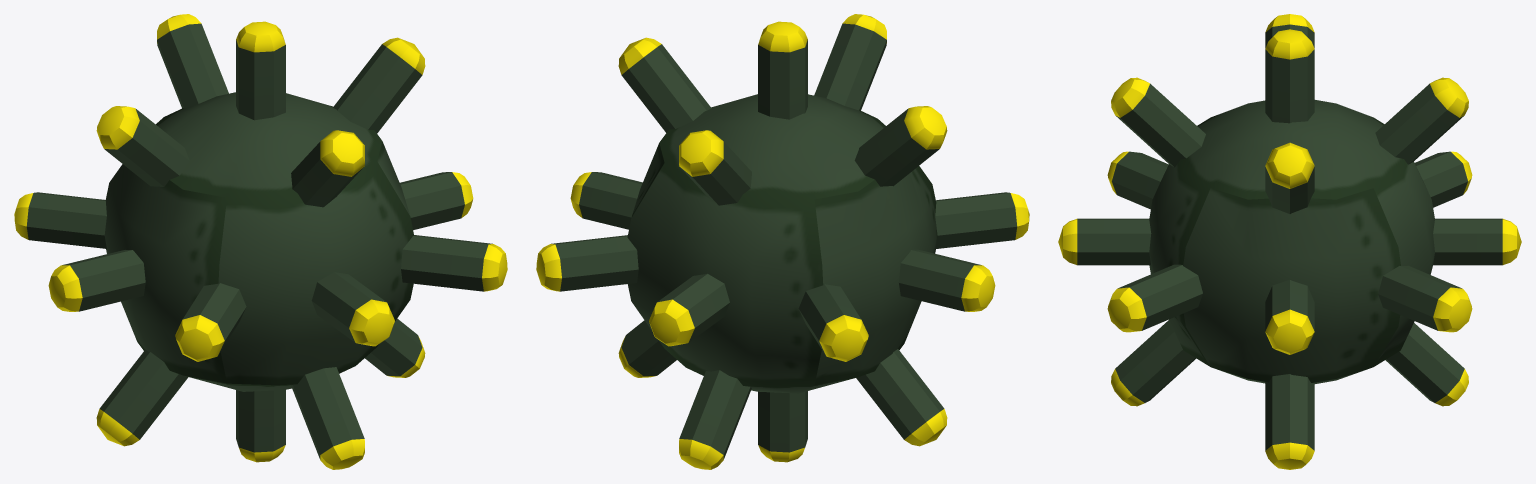
Rendered from Bomb.fbx.
3 renders of one model, left to right at view 1: azimuth 30°, elevation 25°; view 2: azimuth 150°, elevation 25°; view 3: azimuth 270°, elevation 25°, orthographic. The views are drawn at different scales.
Parts seen in each view (by area): view 1: Bomb; view 2: Bomb; view 3: Bomb.
Part boxes in pixels (<box>): Bomb: <box>14,14,507,469</box>; Bomb: <box>536,14,1029,469</box>; Bomb: <box>1058,14,1521,469</box>.
Size of the model in its own units: 14.02 by 14.02 by 14.02.
Materials: 1 (1 with a texture image).
